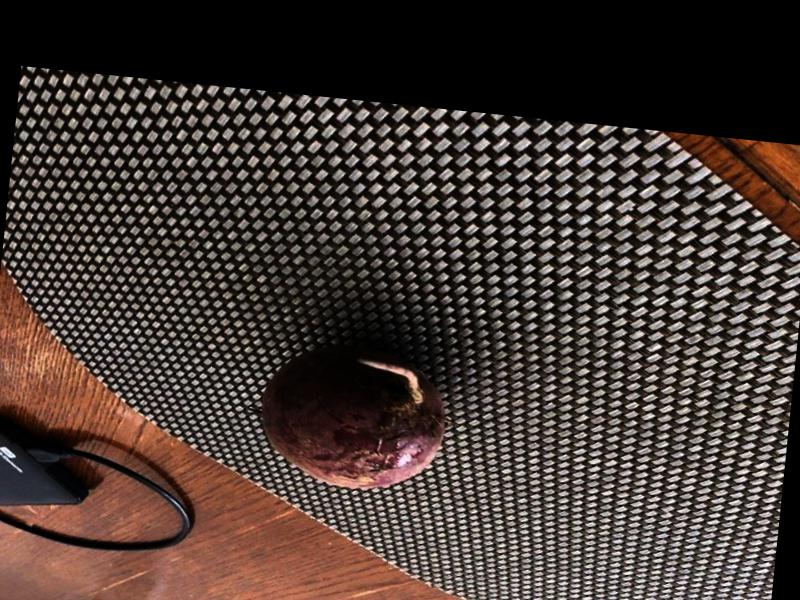Beet: (254, 338, 451, 496)
